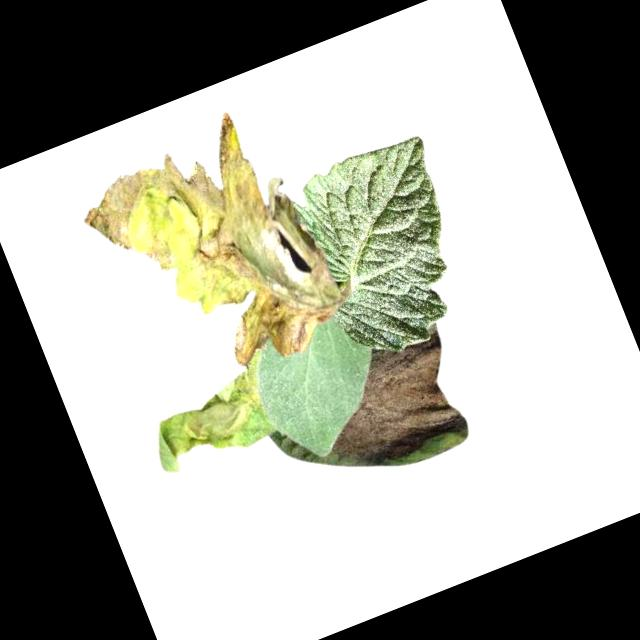Late_blight: (66, 96, 357, 408), (300, 323, 479, 482), (133, 349, 291, 480)
